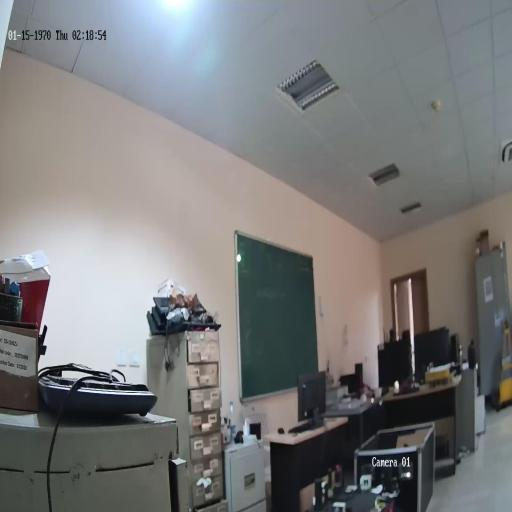laser: (236, 251, 242, 263)
